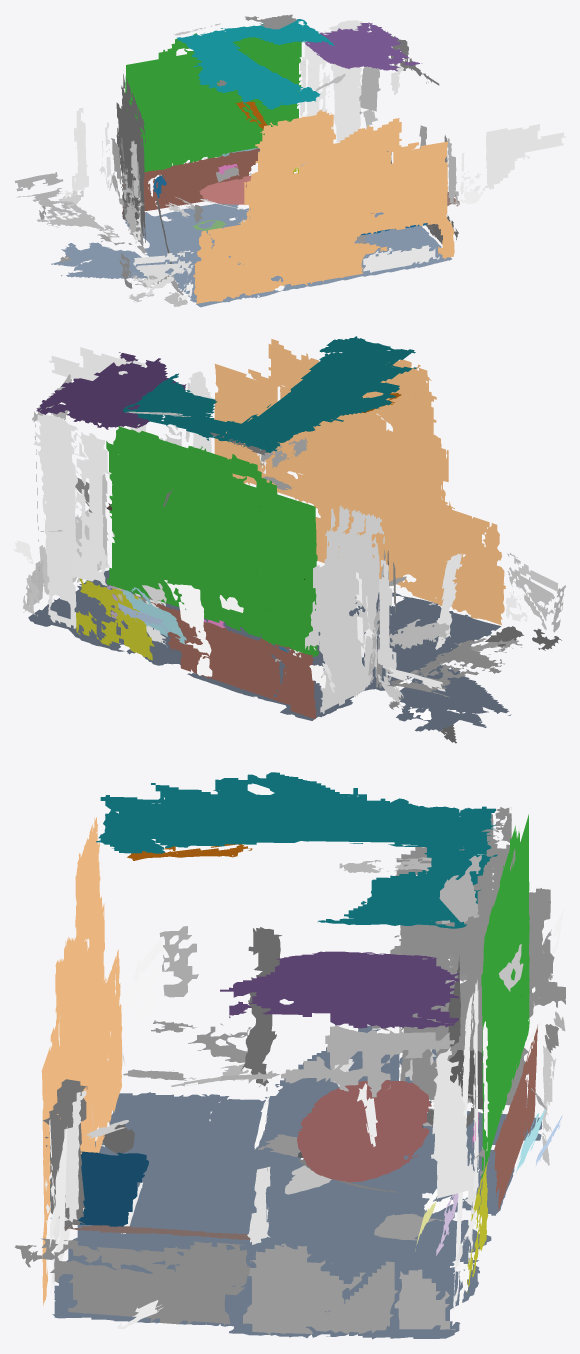
The model's file is airplanes.glb.
3 renders of one model, top to bottom at view 1: azimuth 30°, elevation 25°; view 2: azimuth 150°, elevation 25°; view 3: azimuth 270°, elevation 25°, orthographic. The views are drawn at different scales.
Parts seen in each view (by area): view 1: Node1; view 2: Node1; view 3: Node1.
Part boxes in pixels (x1,y1,x2,y2): Node1: (15,14,565,307); Node1: (14,336,565,743); Node1: (14,772,565,1339).
Size of the model in its own units: 8.48 by 3.72 by 4.8.
